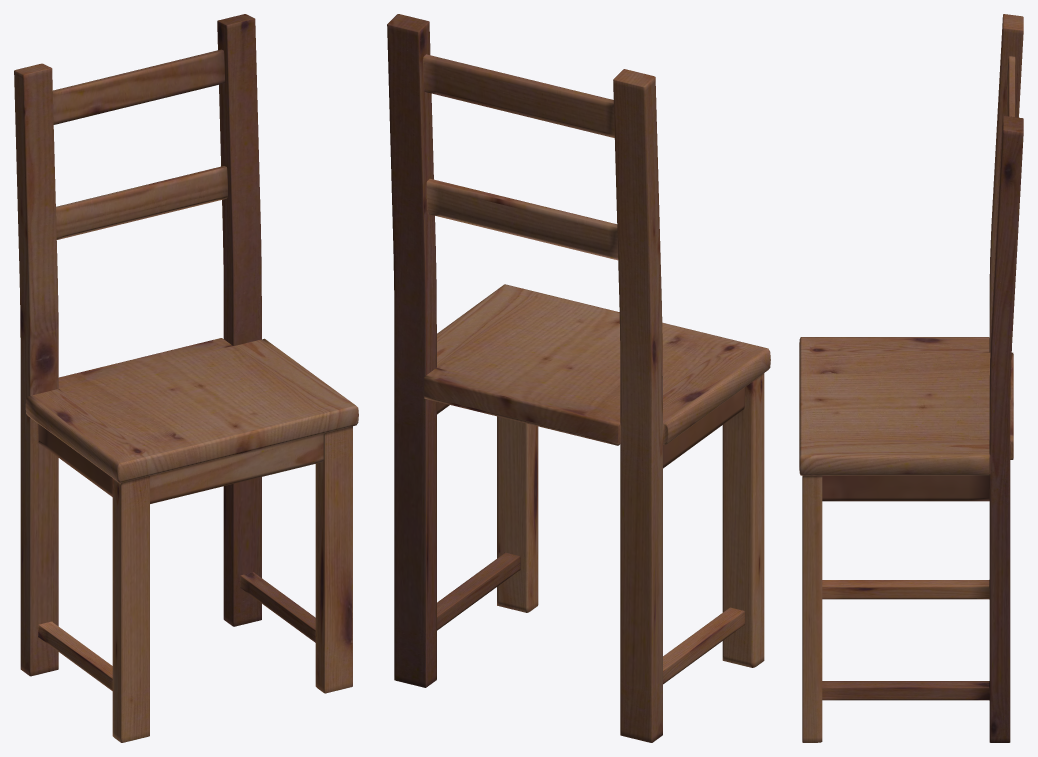
File: sediaLx.obj
The picture shows the model from 3 angles, left to right: view 1: azimuth 30°, elevation 25°; view 2: azimuth 150°, elevation 25°; view 3: azimuth 270°, elevation 25°; orthographic projection. The views are drawn at different scales.
Parts seen in each view (by area): view 1: sedia_04_Ivar_Pinea_Plane.003; view 2: sedia_04_Ivar_Pinea_Plane.003; view 3: sedia_04_Ivar_Pinea_Plane.003.
Boxes of the visible parts, box(x1,y1,x2,y2) form: sedia_04_Ivar_Pinea_Plane.003: box(14, 14, 358, 742); sedia_04_Ivar_Pinea_Plane.003: box(387, 14, 770, 742); sedia_04_Ivar_Pinea_Plane.003: box(799, 14, 1023, 742).
Size of the model in its own units: 2.01 by 4.74 by 1.57.
